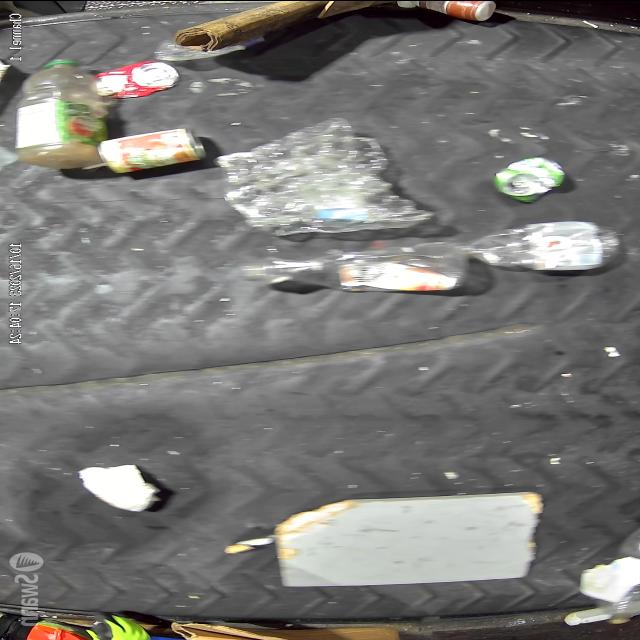can: (92, 57, 182, 99), (85, 134, 196, 166)
non_white_jug: (18, 59, 82, 163)
plastic_bottle: (218, 121, 408, 228), (231, 244, 453, 296), (461, 224, 619, 272)
